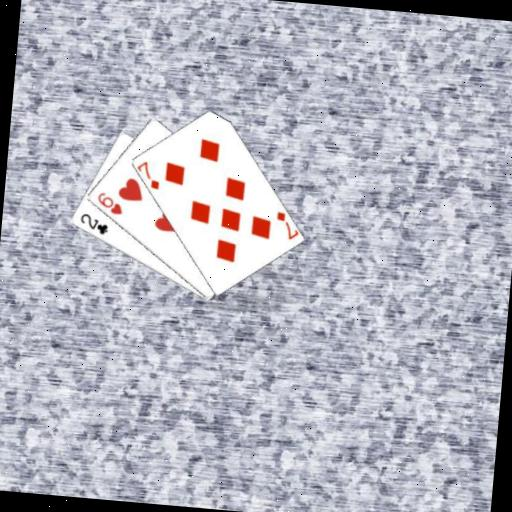2C: (76, 210, 110, 237)
6H: (93, 189, 126, 217)
7D: (133, 158, 163, 192), (271, 208, 301, 242)
